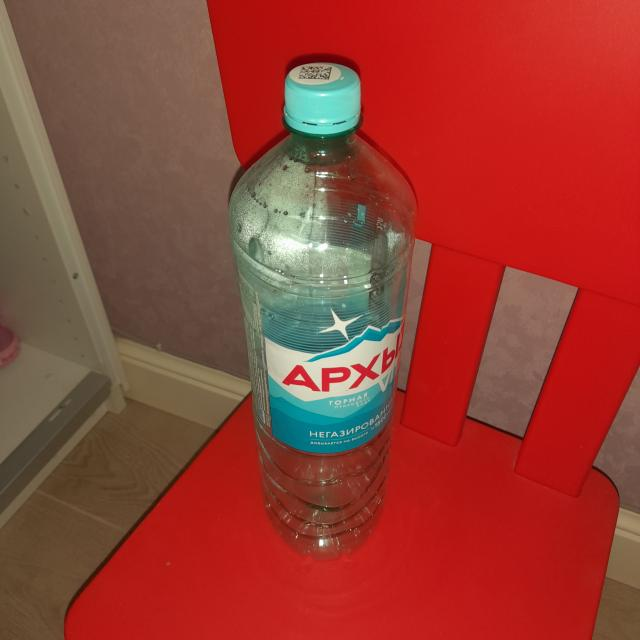empty: (229, 62, 415, 557)
